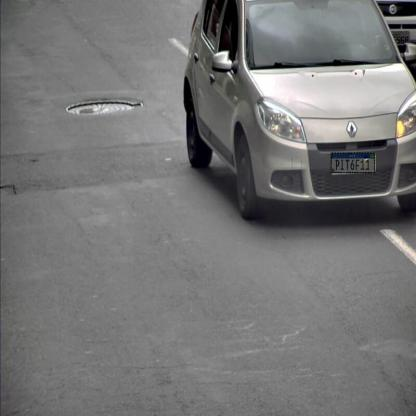PlacaM: (331, 152, 375, 174)
